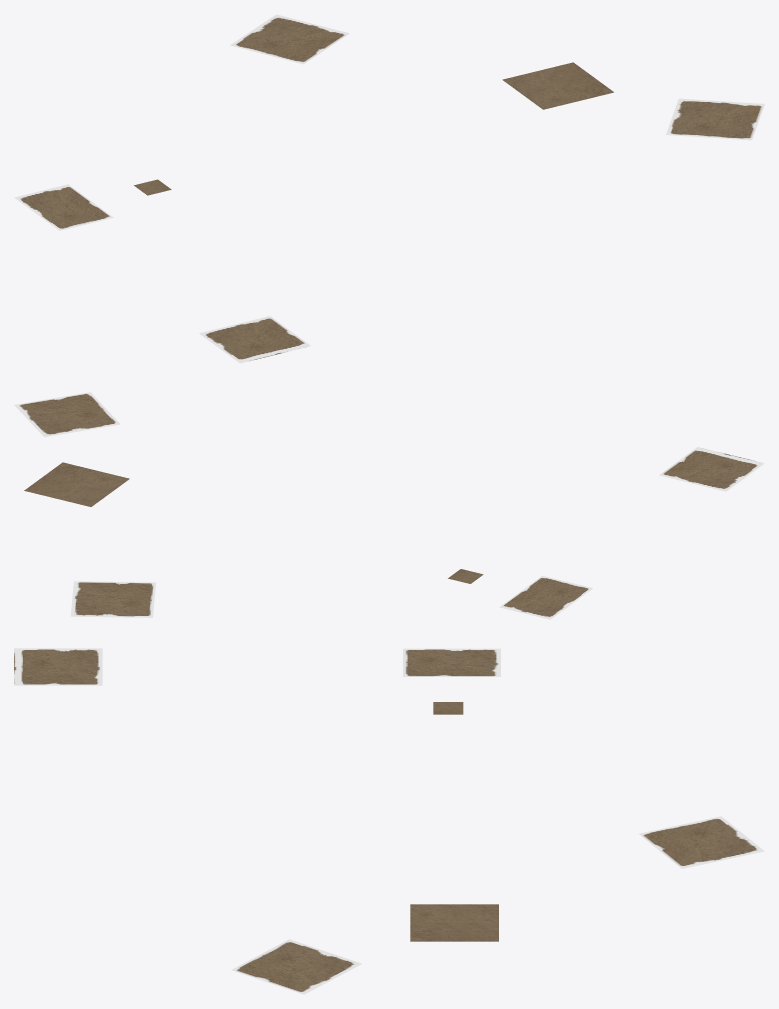
File: football_train01_nitu.fbx
The picture shows the model from 3 angles, top to bottom: view 1: azimuth 30°, elevation 25°; view 2: azimuth 150°, elevation 25°; view 3: azimuth 270°, elevation 25°; orthographic projection. The views are drawn at different scales.
Parts seen in each view (by area): view 1: nitu, nitu2; view 2: nitu, nitu2; view 3: nitu, nitu2.
Part boxes in pixels (x1,y1,x2,y2): nitu: (14, 14, 764, 363); nitu2: (134, 62, 613, 195); nitu: (14, 392, 764, 619); nitu2: (24, 462, 483, 583); nitu: (14, 648, 764, 994); nitu2: (410, 702, 498, 941).
Bounding box in the file's own units: 73.48 × 0.0943 × 67.36.
